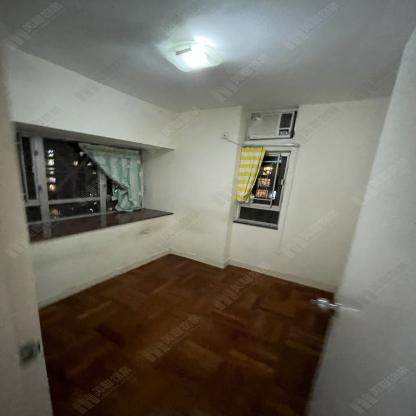AC: (248, 111, 296, 141)
Windowsill: (11, 121, 175, 244)
